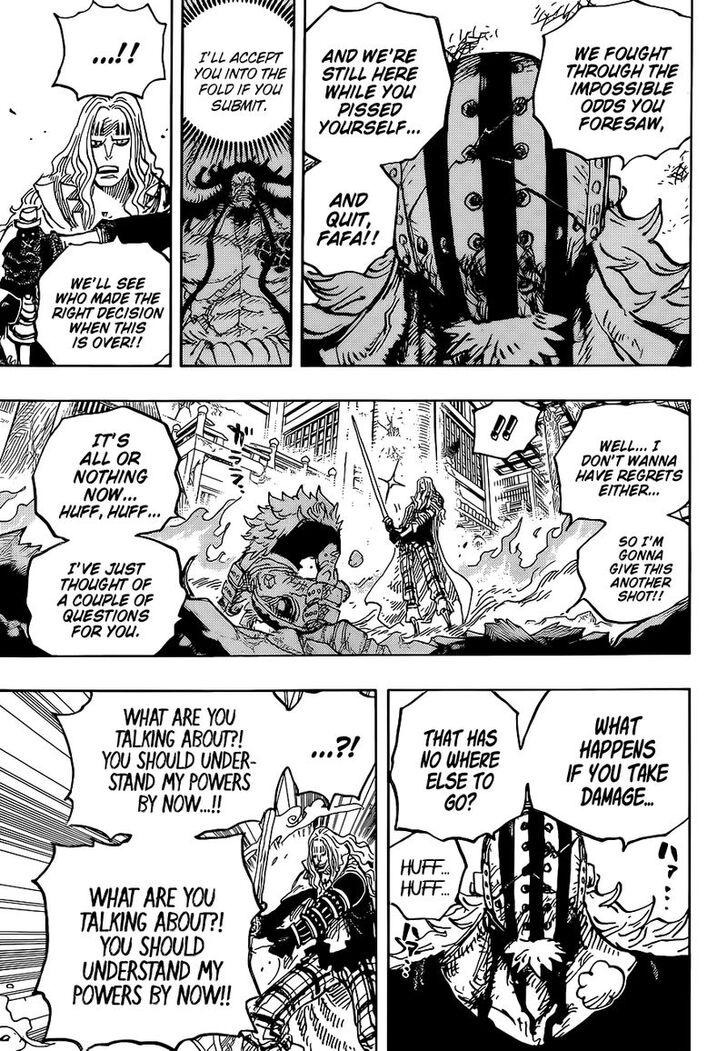Bubble: (30, 839, 265, 1051), (50, 688, 285, 835), (531, 0, 694, 162), (527, 688, 692, 844), (303, 1, 454, 162), (386, 687, 522, 844), (30, 404, 182, 536), (23, 540, 191, 658), (33, 239, 172, 368), (182, 0, 294, 146), (553, 400, 692, 515), (574, 522, 693, 624), (50, 0, 168, 102), (299, 165, 401, 279), (289, 687, 379, 809), (387, 847, 469, 922), (470, 397, 543, 460)
